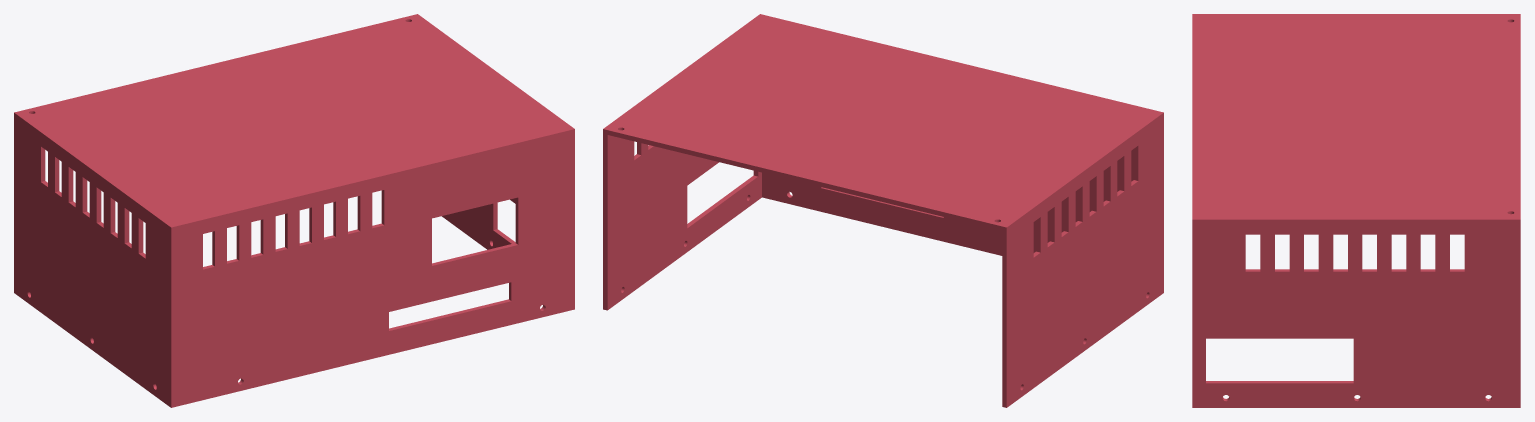
File: rav_frame_top_RPI_Hat.glb
3 views of the same model, side by side, from view 1: azimuth 30°, elevation 25°; view 2: azimuth 150°, elevation 25°; view 3: azimuth 270°, elevation 25° (orthographic). The views are drawn at different scales.
Visible parts, largest first — view 1: Mesh_Mesh_head_geo.001_lambert2SG.001; view 2: Mesh_Mesh_head_geo.001_lambert2SG.001; view 3: Mesh_Mesh_head_geo.001_lambert2SG.001.
Part boxes in pixels (bbox=[...]): Mesh_Mesh_head_geo.001_lambert2SG.001: bbox=[14, 14, 574, 407]; Mesh_Mesh_head_geo.001_lambert2SG.001: bbox=[603, 14, 1163, 407]; Mesh_Mesh_head_geo.001_lambert2SG.001: bbox=[1192, 14, 1520, 407].
Bounding box in the file's own units: 0.178 × 0.076 × 0.12.
